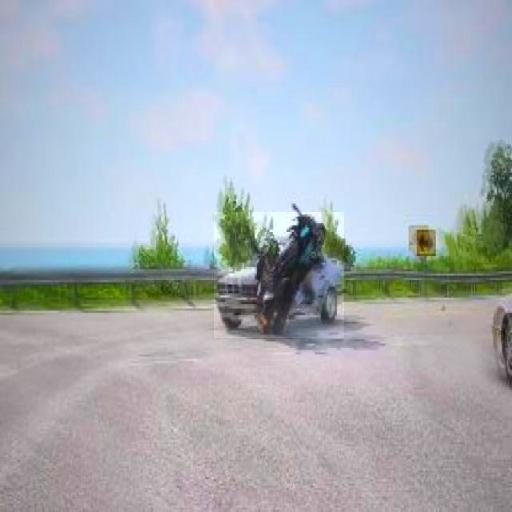小汽车撞自行车: (214, 212, 344, 338)
